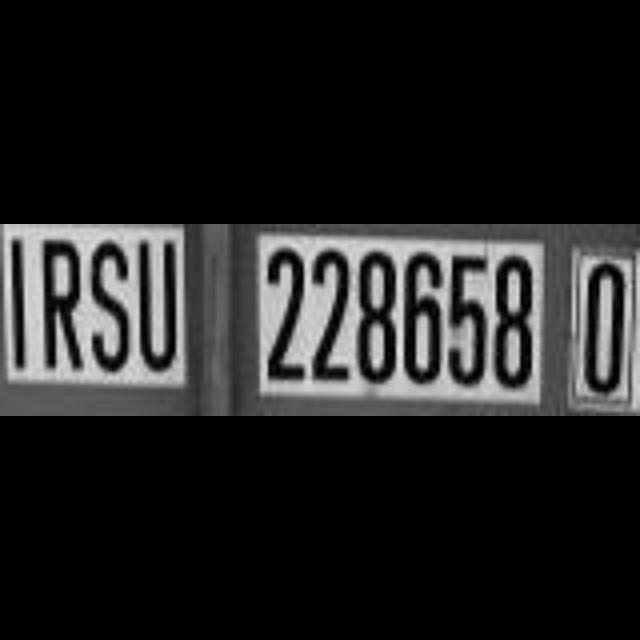0: (582, 258, 628, 398)
2: (308, 238, 354, 389), (265, 240, 309, 392)
5: (445, 245, 495, 401)
6: (400, 242, 446, 398)
8: (491, 248, 539, 398), (356, 242, 400, 390)
i: (8, 232, 36, 378)
r: (39, 230, 87, 376)
s: (88, 232, 136, 376)
u: (135, 232, 181, 378)
